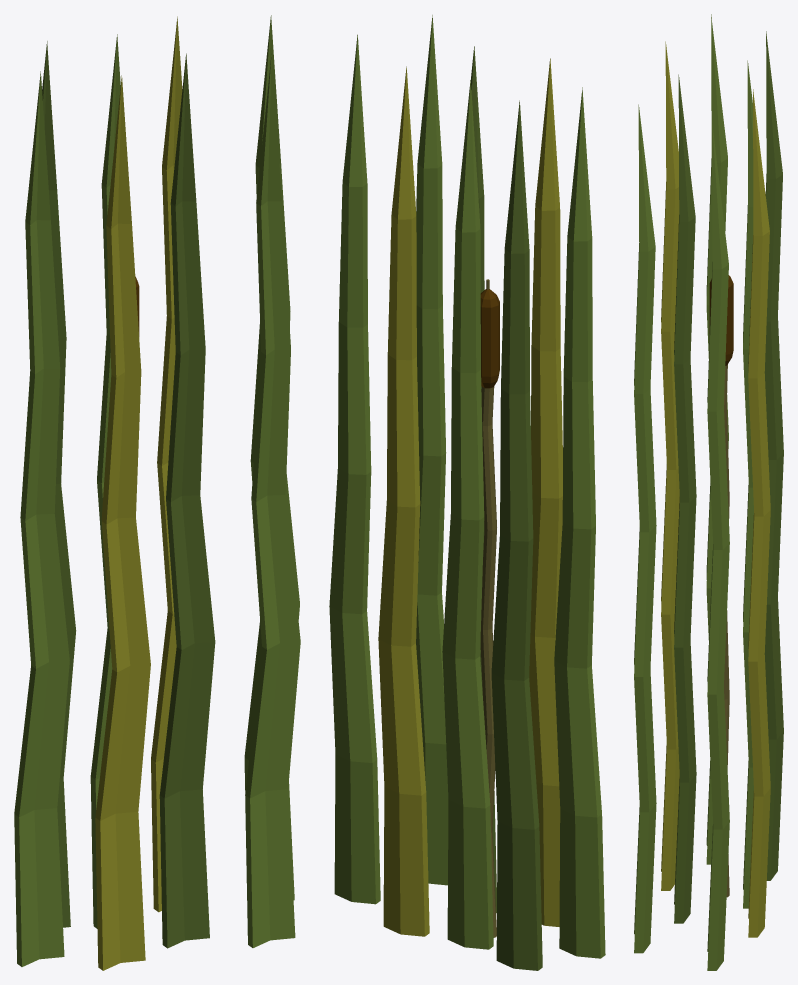
The model's file is Riet.fbx.
The picture shows the model from 3 angles, left to right: view 1: azimuth 30°, elevation 25°; view 2: azimuth 150°, elevation 25°; view 3: azimuth 270°, elevation 25°; orthographic projection. The views are drawn at different scales.
Visible parts, largest first — view 1: Cone.005, Cone.006, Cone.007, Cone.002, Cone.004, Cone.003, Cone, Cone.001; view 2: Cone.002, Cone.001, Cone, Cone.004, Cone.003, Cone.006, Cone.005, Cylinder, Cone.007; view 3: Cone.001, Cone.005, Cone.004, Cone.007, Cone.006, Cone.003, Cone, Cone.002, Cylinder.
Part boxes in pixels (x1,y1,x2,y2): Cone.005: (245,53,300,947); Cone.006: (95,75,150,970); Cone.007: (159,53,215,948); Cone.002: (14,71,69,966); Cone.004: (151,16,182,912); Cone.003: (42,41,76,927); Cone: (90,34,120,928); Cone.001: (244,15,299,900); Cone.002: (554,87,605,958); Cone.001: (329,34,380,904); Cone: (442,80,493,949); Cone.004: (378,66,429,936); Cone.003: (491,100,542,970); Cone.006: (529,58,562,926); Cone.005: (416,15,448,885); Cylinder: (480,279,499,937); Cone.007: (471,46,496,912); Cone.001: (707,122,729,970); Cone.005: (634,104,656,953); Cone.004: (748,89,770,937); Cone.007: (674,74,696,923); Cone.006: (661,41,679,890); Cone.003: (764,31,783,880); Cone: (743,60,753,908); Cone.002: (706,14,728,864); Cylinder: (709,275,733,897).
Bounding box in the file's own units: 65.54 × 200 × 32.33.
